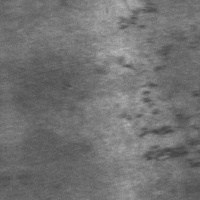rolled-in_scale: (120, 56, 199, 174), (114, 0, 158, 32)
